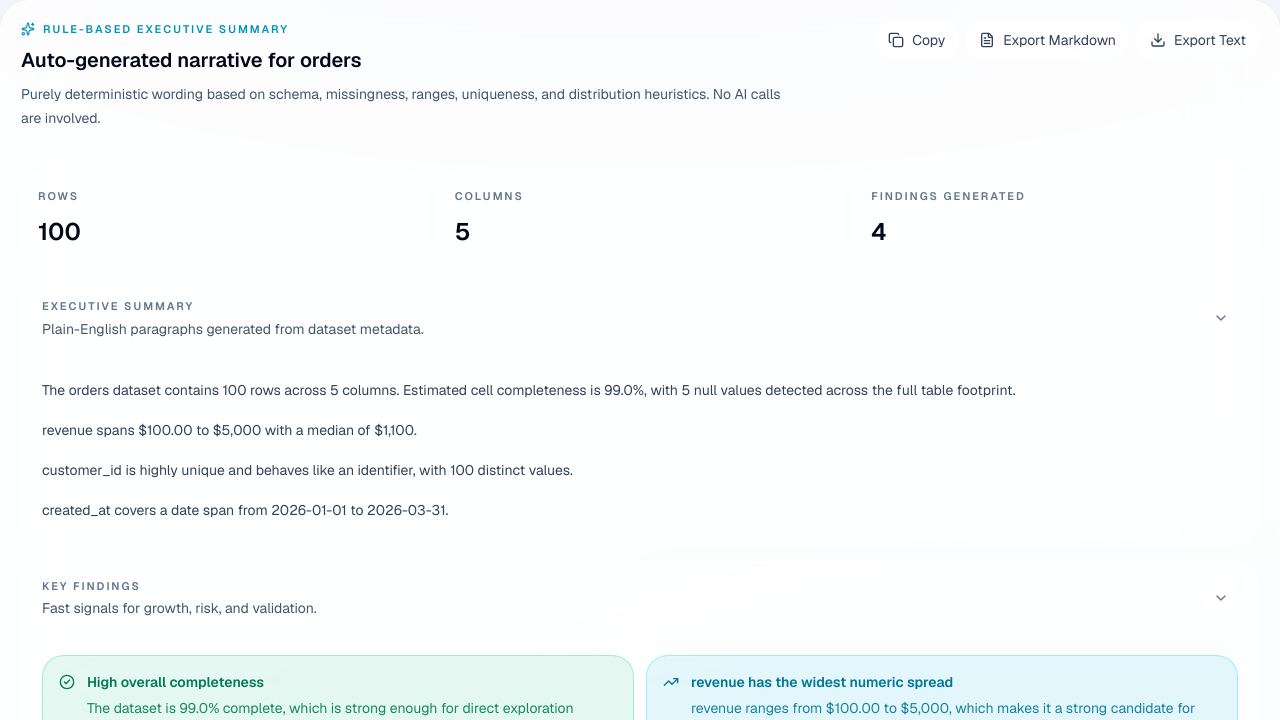
DataSummarizer › copies the plain-text summary to the clipboard
Click the button "Copy" at coordinates (917, 40), box x1=875 y1=21 x2=958 y2=59
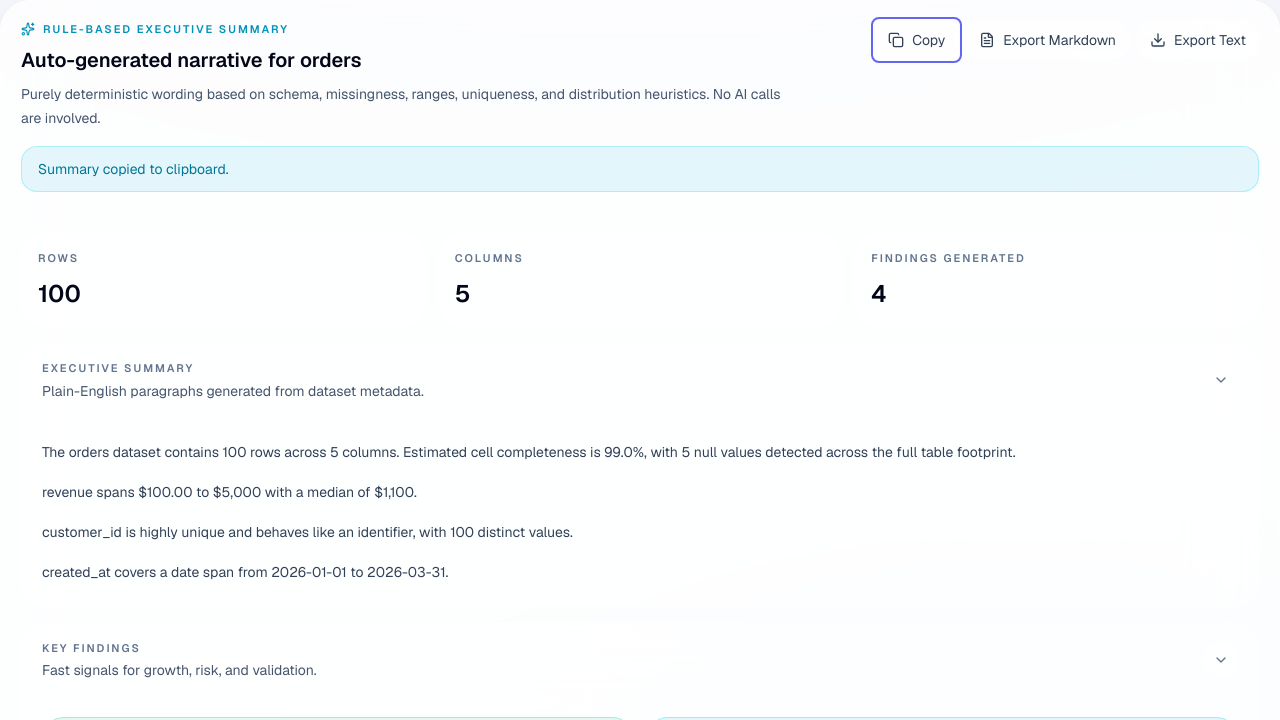
Now the text "Summary copied to clipboard." is shown, box x1=21 y1=146 x2=1259 y2=192
